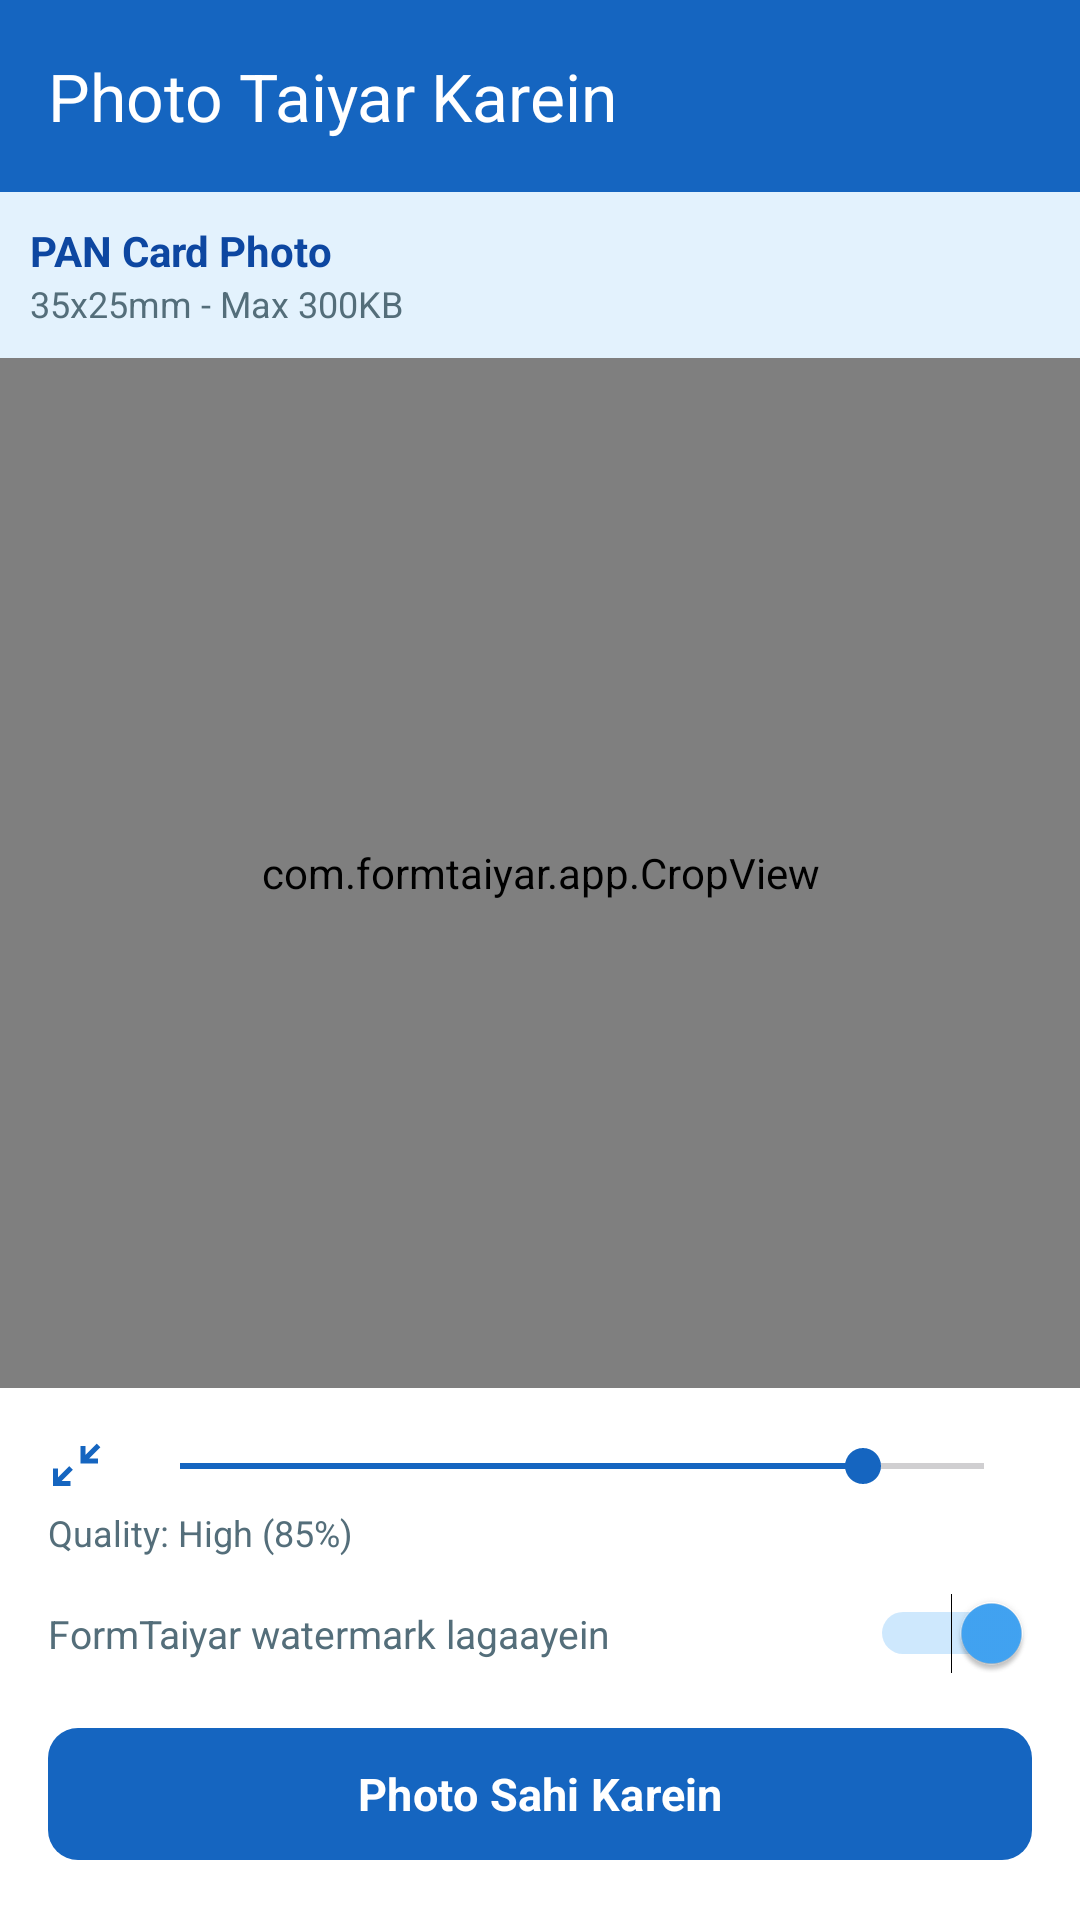

Named icons in this screenshot (1080×1920) and their centers, [x,y]:
compress: [77,1464]
